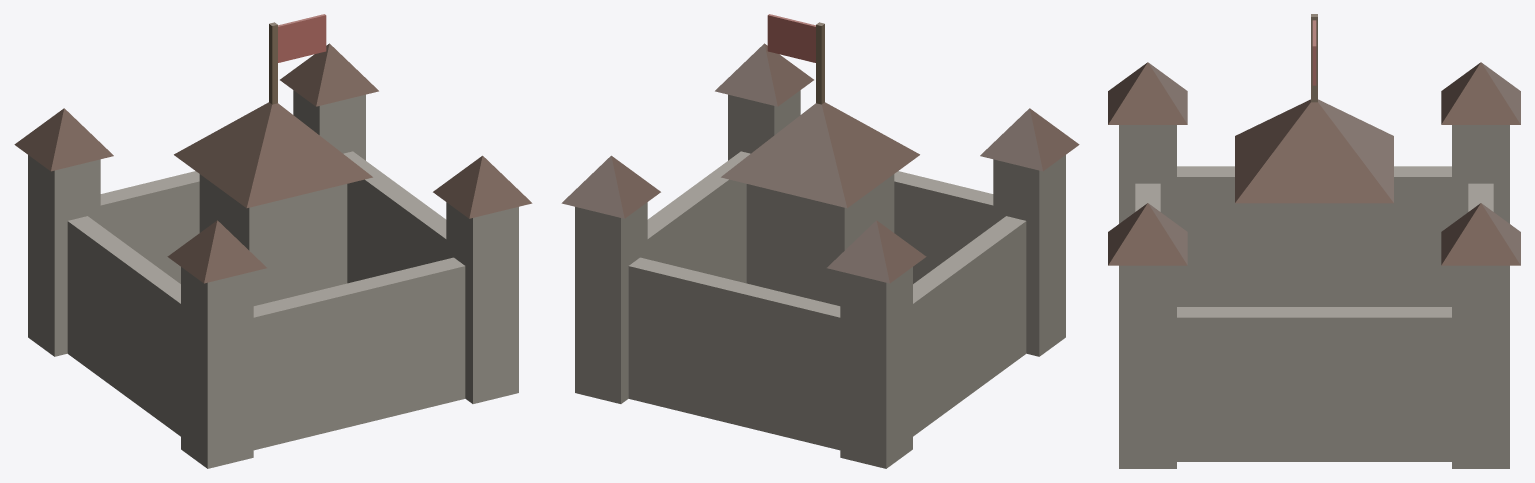
The model's file is capital.gltf.
3 renders of one model, left to right at view 1: azimuth 30°, elevation 25°; view 2: azimuth 150°, elevation 25°; view 3: azimuth 270°, elevation 25°, orthographic. The views are drawn at different scales.
Parts seen in each view (by area): view 1: building-capital; view 2: building-capital; view 3: building-capital.
Part boxes in pixels (x1,y1,x2,y2): building-capital: (14,14,532,468); building-capital: (561,14,1079,468); building-capital: (1108,14,1520,468).
Size of the model in its own units: 1.14 by 1.13 by 1.14.
